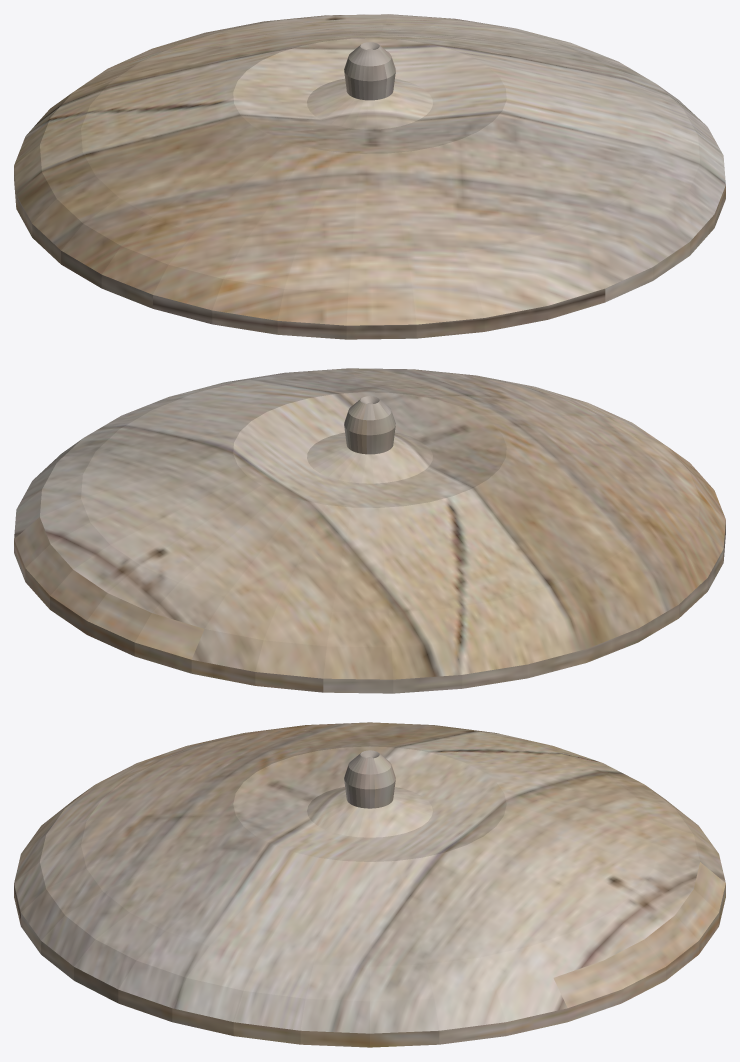
File: Lid.obj
3 renders of one model, top to bottom at view 1: azimuth 30°, elevation 25°; view 2: azimuth 150°, elevation 25°; view 3: azimuth 270°, elevation 25°, orthographic.
Visible parts, largest first — view 1: Up.006, Up.001_Up.000; view 2: Up.006, Up.001_Up.000; view 3: Up.006, Up.001_Up.000.
Boxes of the visible parts, x1,y1,x2,y2 form: Up.006: (14,14,725,339); Up.001_Up.000: (14,14,725,339); Up.006: (14,368,725,693); Up.001_Up.000: (14,368,725,693); Up.006: (14,722,725,1047); Up.001_Up.000: (14,722,725,1047).
Size of the model in its own units: 0.6723 by 0.1486 by 0.6723.
Materials: 1 (1 with a texture image).
